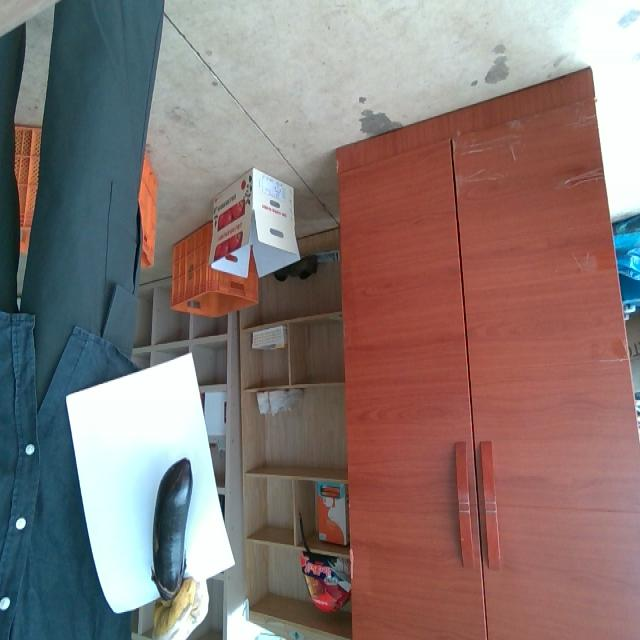Egg plant: (153, 460, 193, 601)
